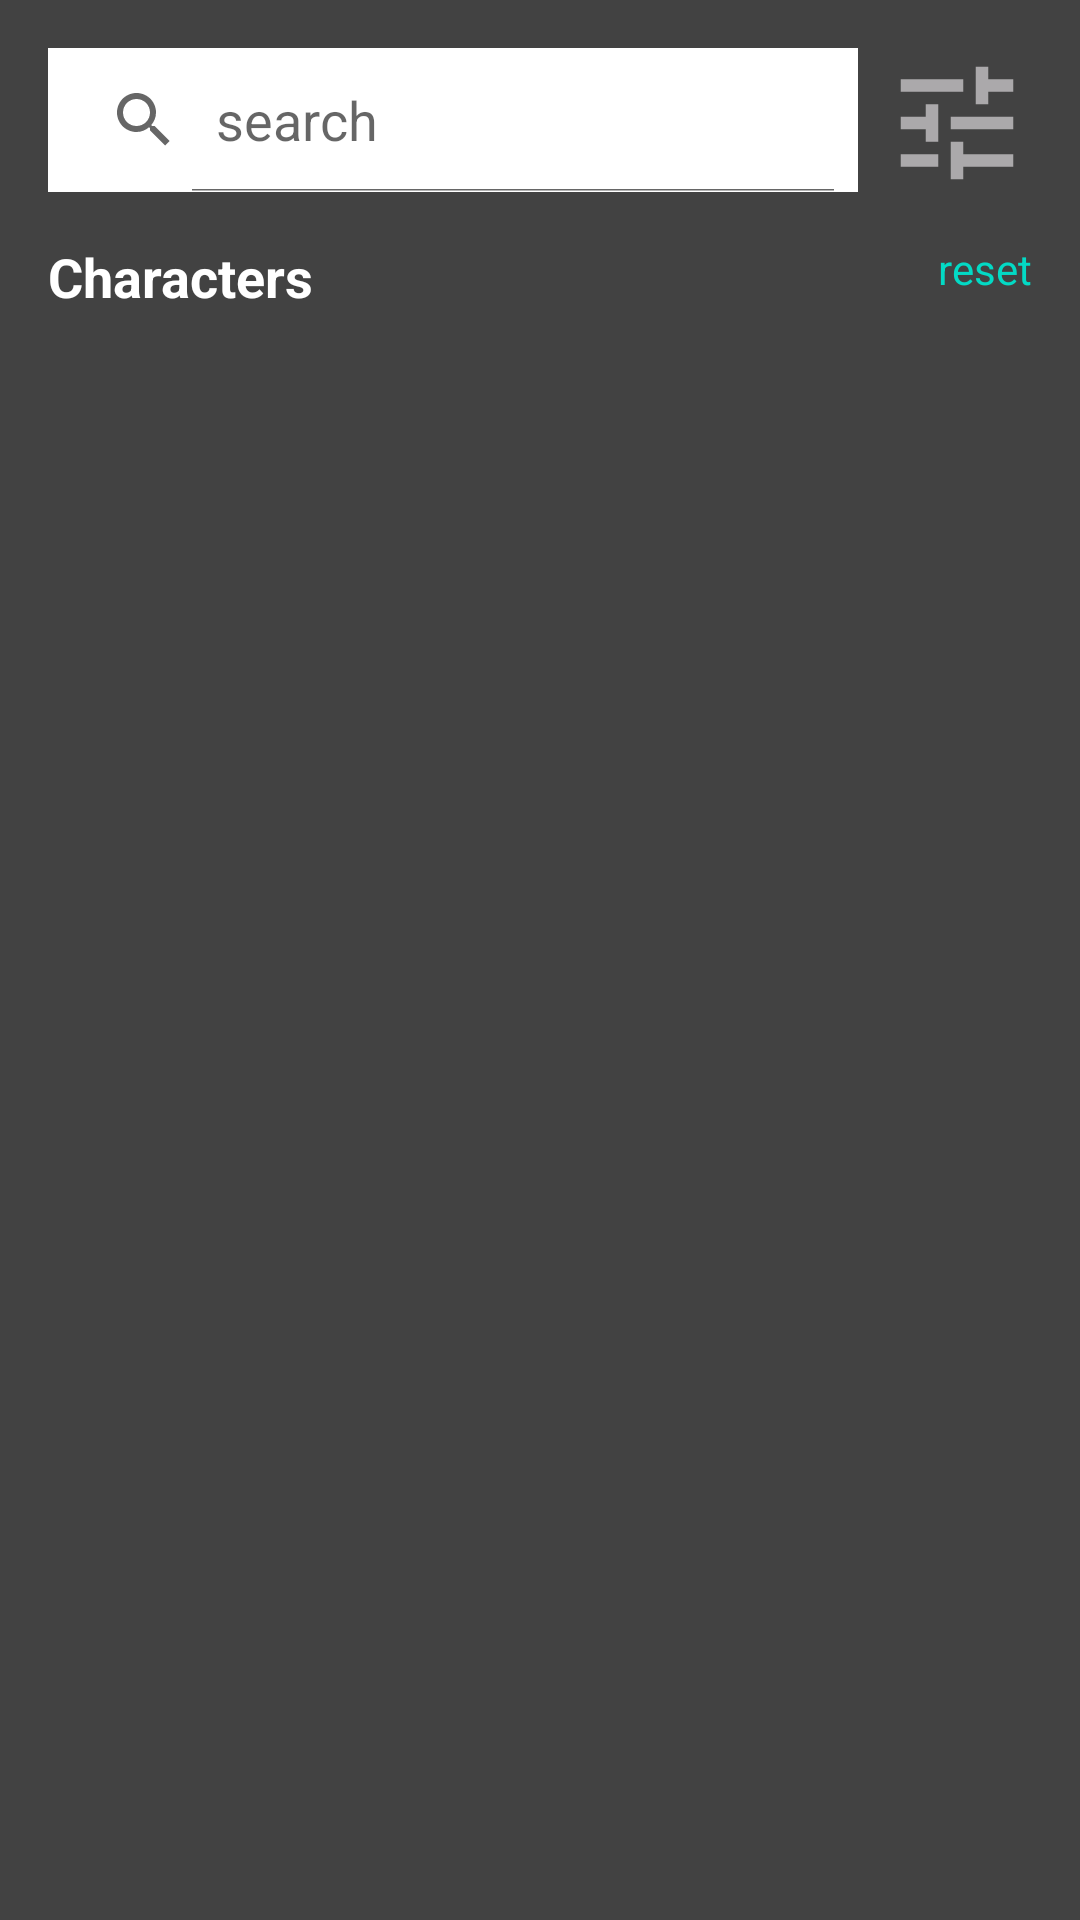

Named icons in this screenshot (1080px x 1920px) and their centers, point (x, y):
tune: point (957, 123)
